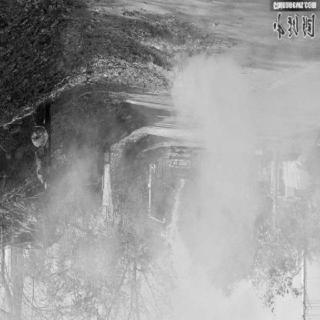other: (32, 147, 52, 193)
